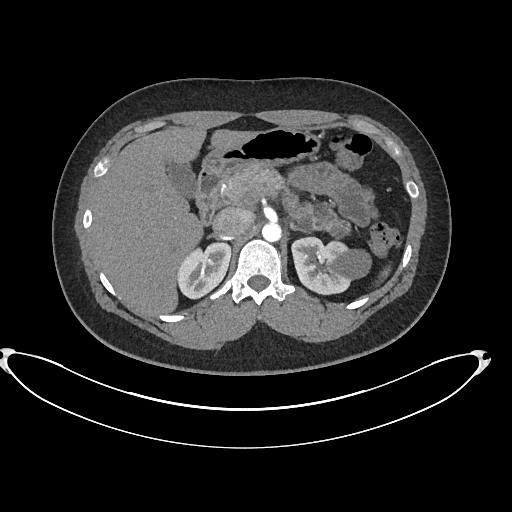Lesion: (330, 246, 373, 280)
